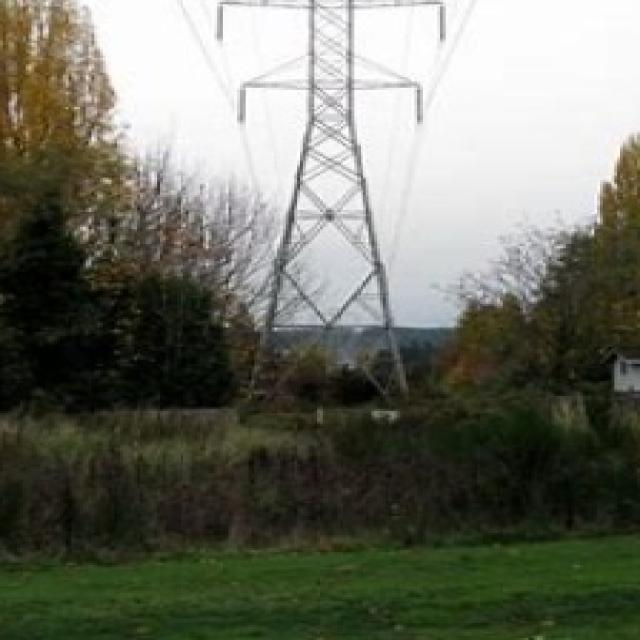utility poles: (63, 52, 325, 460), (327, 223, 581, 460)
